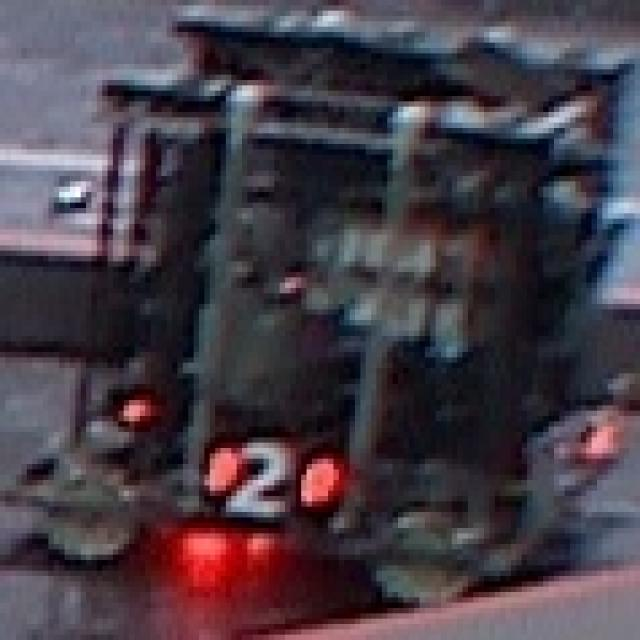R2: (188, 432, 328, 512)
